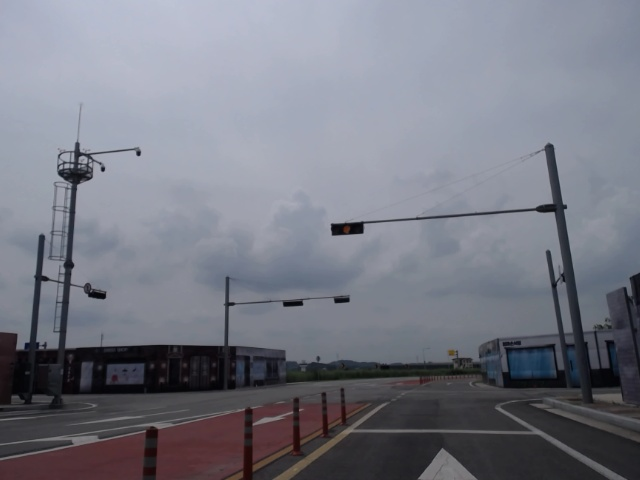orange_3: (331, 222, 364, 235)
